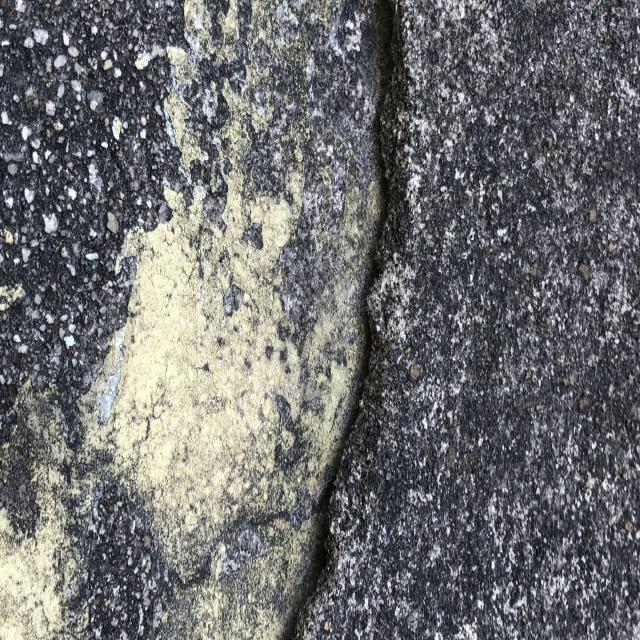SurfaceCrack: (251, 1, 474, 639)
